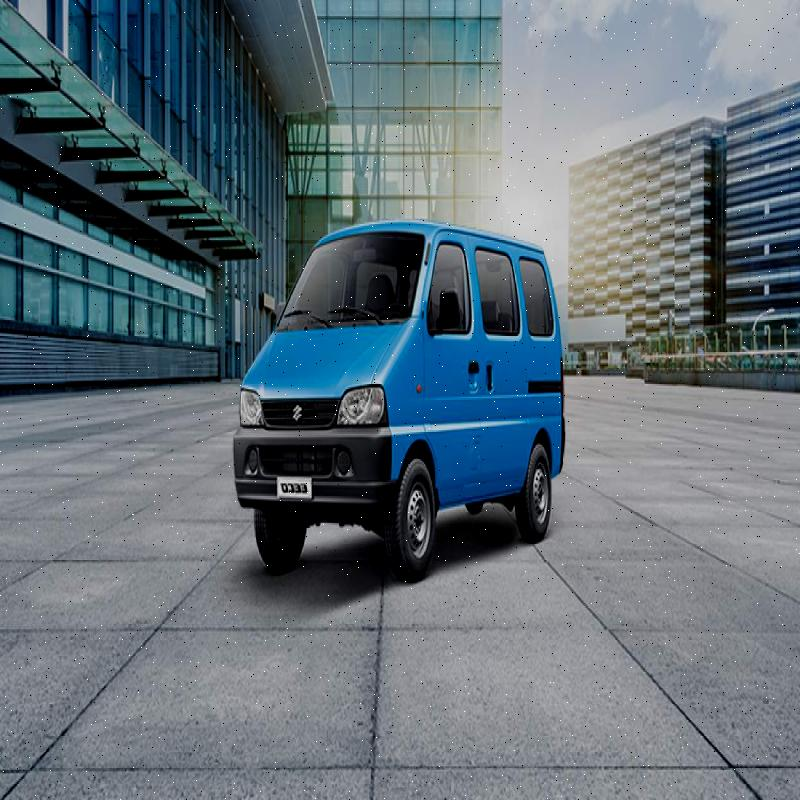car: (228, 222, 575, 580)
